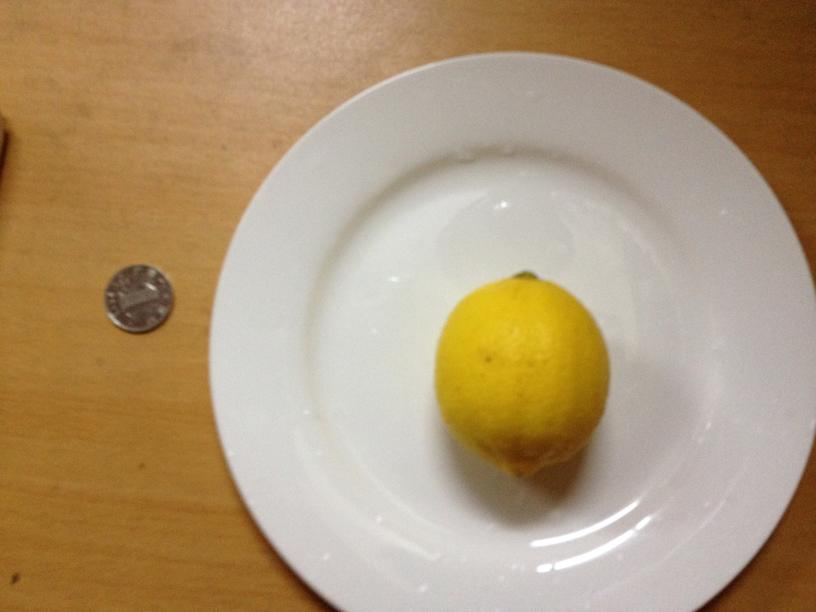coin: (103, 259, 173, 335)
lemon: (437, 273, 610, 477)
